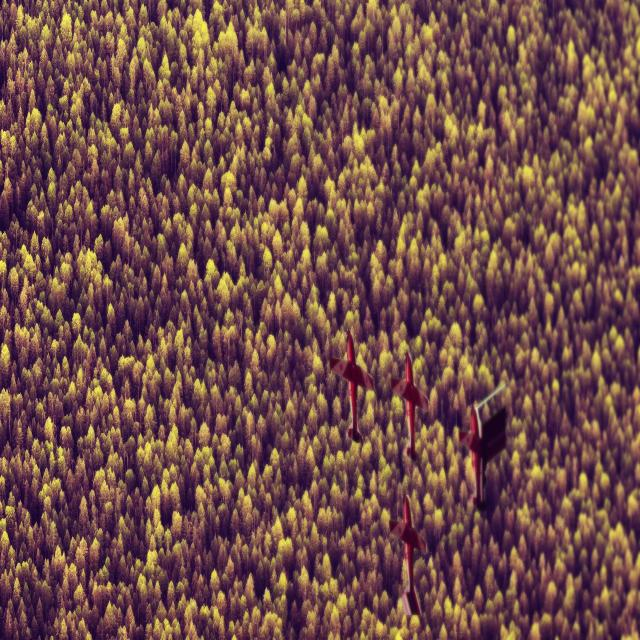airplane: (458, 381, 507, 508), (328, 329, 375, 443), (388, 493, 427, 618), (390, 350, 429, 461)
